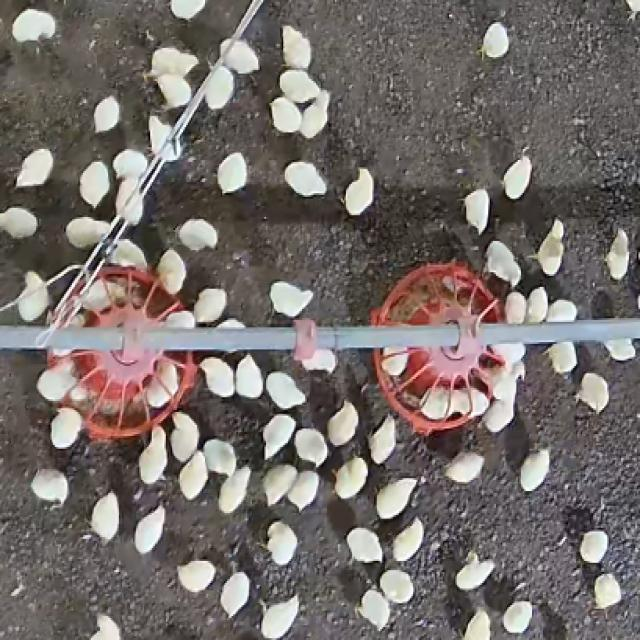broiler: (376, 478, 416, 519), (17, 270, 49, 320), (534, 219, 563, 274), (484, 241, 520, 285), (260, 596, 297, 638), (139, 427, 166, 484), (169, 412, 199, 462), (285, 160, 325, 197), (269, 281, 311, 316), (11, 9, 55, 42), (266, 371, 305, 408), (219, 465, 249, 513), (455, 552, 493, 589), (135, 506, 164, 554), (66, 217, 110, 248), (263, 414, 294, 458), (178, 451, 207, 498), (263, 463, 296, 504), (91, 491, 119, 539), (300, 90, 329, 136), (156, 248, 185, 294), (16, 149, 52, 186), (327, 401, 357, 445), (152, 46, 197, 75), (335, 456, 366, 498), (391, 519, 422, 561), (358, 589, 390, 629), (368, 414, 394, 463), (50, 406, 81, 447), (268, 520, 296, 565), (200, 357, 233, 395), (221, 572, 249, 616), (30, 469, 67, 502), (520, 449, 549, 491), (286, 471, 318, 509), (280, 70, 319, 101), (576, 373, 607, 412), (205, 66, 233, 109), (444, 452, 484, 482), (606, 228, 629, 280), (294, 429, 327, 465), (346, 528, 382, 561), (178, 219, 216, 250), (504, 154, 530, 199), (224, 40, 258, 74), (156, 74, 191, 107), (177, 561, 214, 592), (235, 353, 261, 397), (108, 239, 146, 269), (379, 568, 413, 601), (218, 153, 246, 193), (80, 162, 108, 202), (0, 206, 36, 237), (192, 289, 225, 322), (203, 440, 235, 474), (269, 97, 300, 131), (283, 26, 308, 68), (465, 189, 488, 234), (482, 399, 513, 432), (502, 601, 532, 633), (113, 149, 147, 177), (480, 22, 507, 57), (546, 342, 576, 373), (579, 531, 607, 563), (351, 169, 371, 213), (94, 96, 119, 131), (595, 574, 620, 607), (462, 609, 490, 638), (302, 349, 335, 371), (526, 287, 548, 320), (504, 291, 526, 322), (604, 338, 634, 360), (171, 0, 205, 18), (546, 300, 576, 320)
pipe: (479, 318, 638, 344), (142, 327, 294, 349), (316, 326, 460, 348), (0, 326, 124, 351)
rice: (49, 269, 197, 438), (371, 263, 504, 434)
